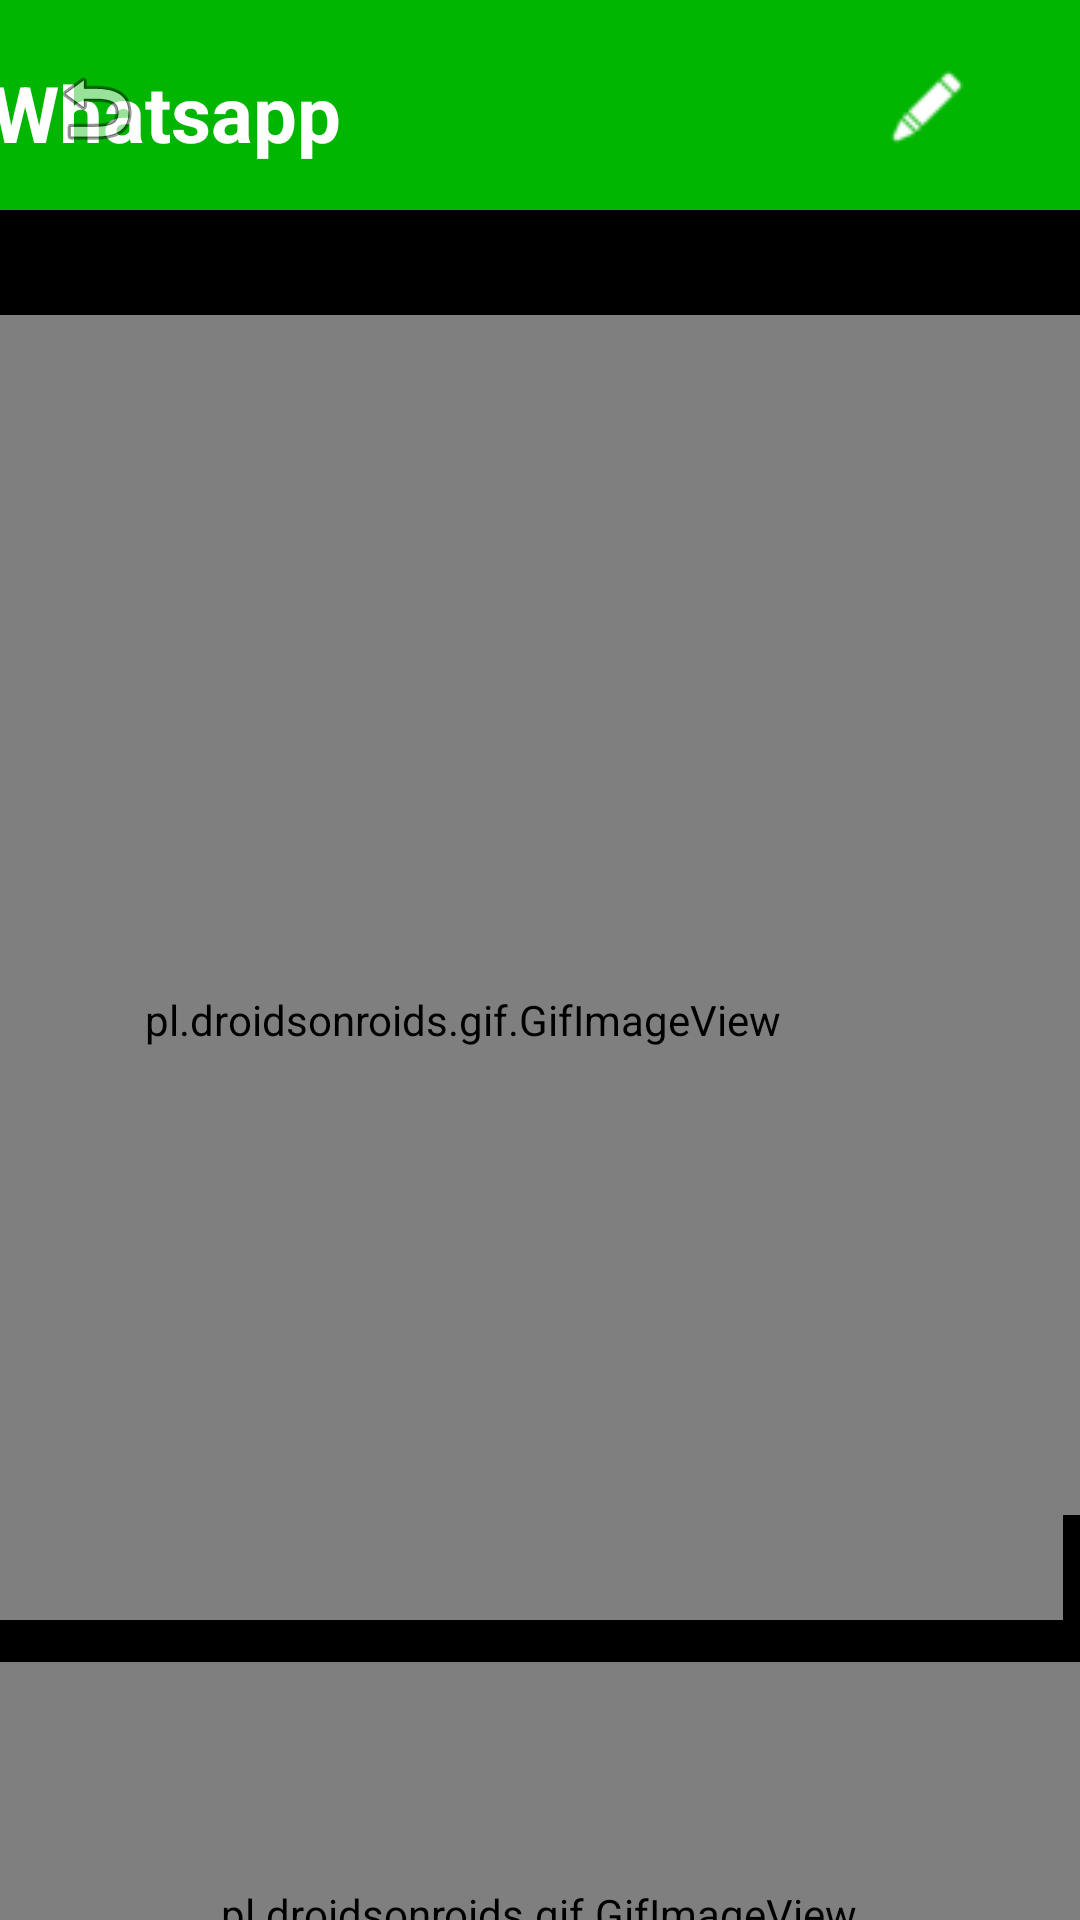

Where icons sit on this 1080×1920 app screen, as (x1, y1, x2, y2):
revert: (63, 77, 143, 144)
